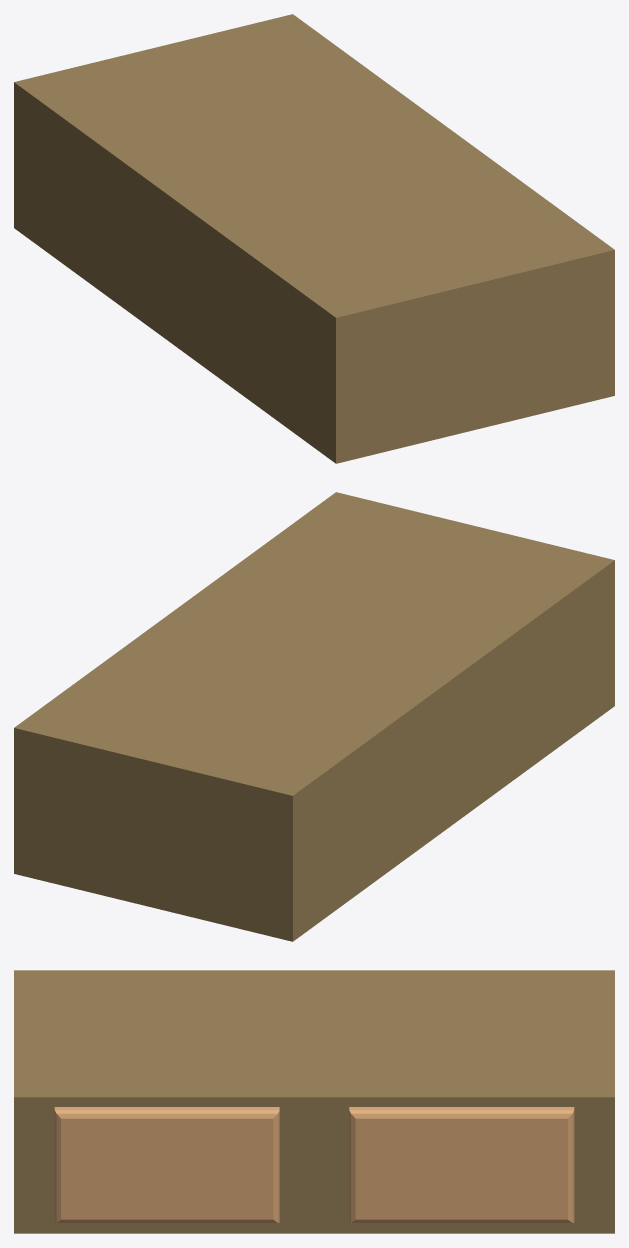
The model's file is upper_cabinets.fbx.
The picture shows the model from 3 angles, top to bottom: view 1: azimuth 30°, elevation 25°; view 2: azimuth 150°, elevation 25°; view 3: azimuth 270°, elevation 25°; orthographic projection. The views are drawn at different scales.
Visible parts, largest first — view 1: Cube; view 2: Cube; view 3: Cube.
Boxes of the visible parts, bbox=[...] form: Cube: bbox=[14, 14, 614, 463]; Cube: bbox=[14, 492, 614, 941]; Cube: bbox=[14, 970, 614, 1233].
Bounding box in the file's own units: 105 × 50 × 200.
